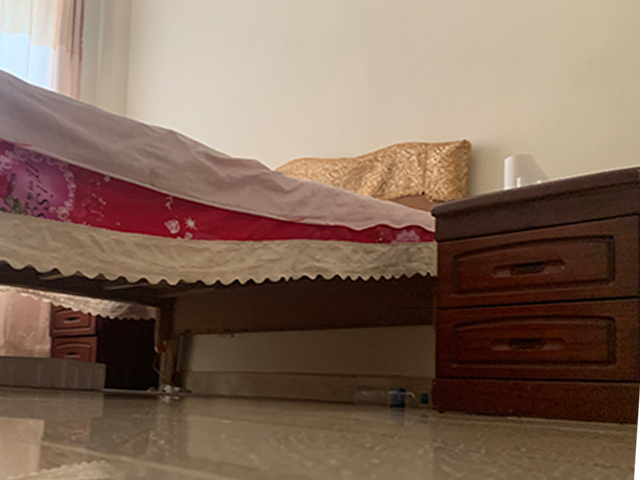bed: (1, 68, 471, 395)
cabinet: (430, 166, 640, 425), (48, 302, 157, 390)
